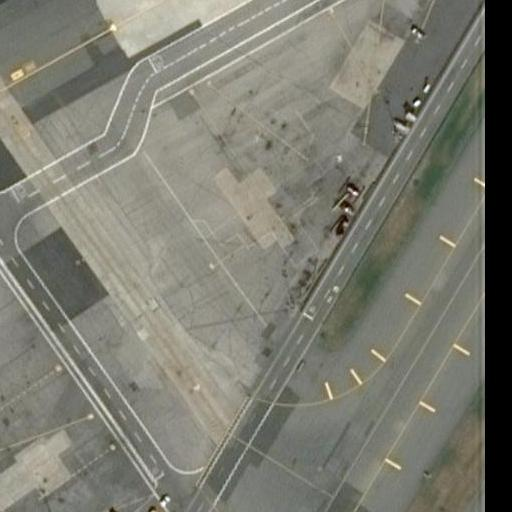Aircraft: (0, 506, 106, 512)
